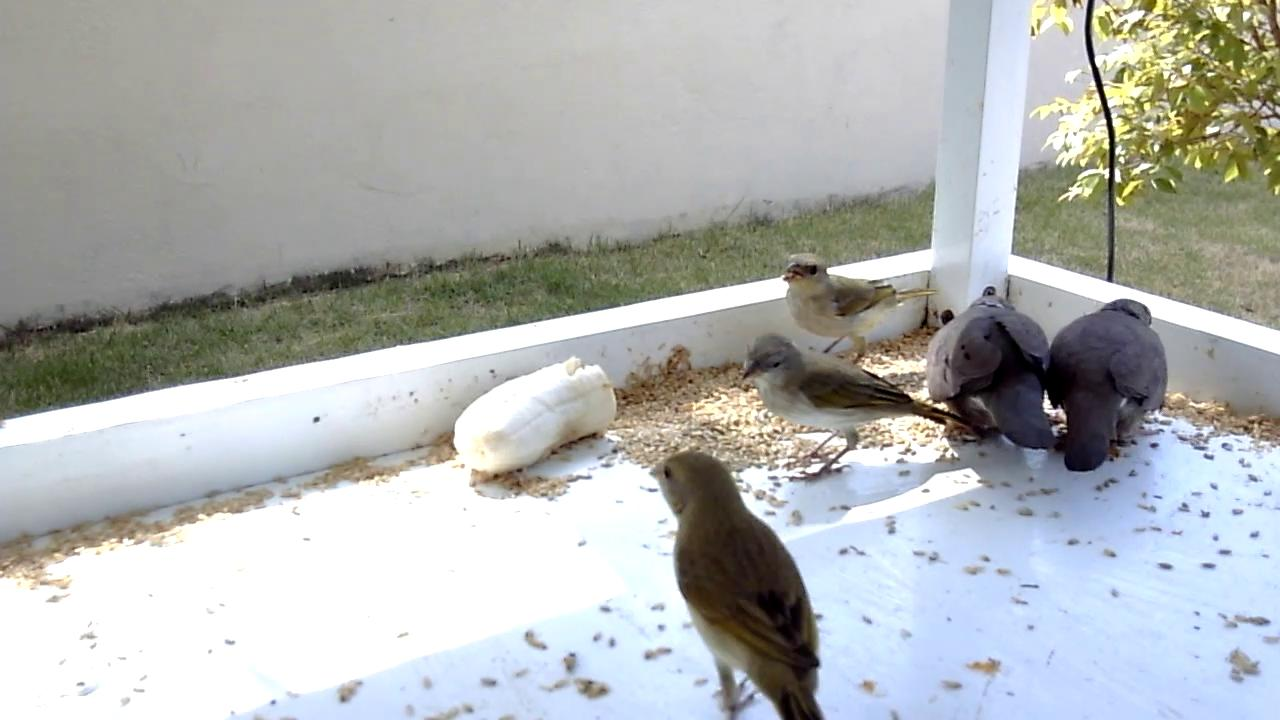canario_do_amazonas: (647, 451, 830, 720), (737, 331, 974, 491), (784, 250, 940, 365)
rolinha: (1051, 297, 1170, 476), (926, 295, 1058, 452)
